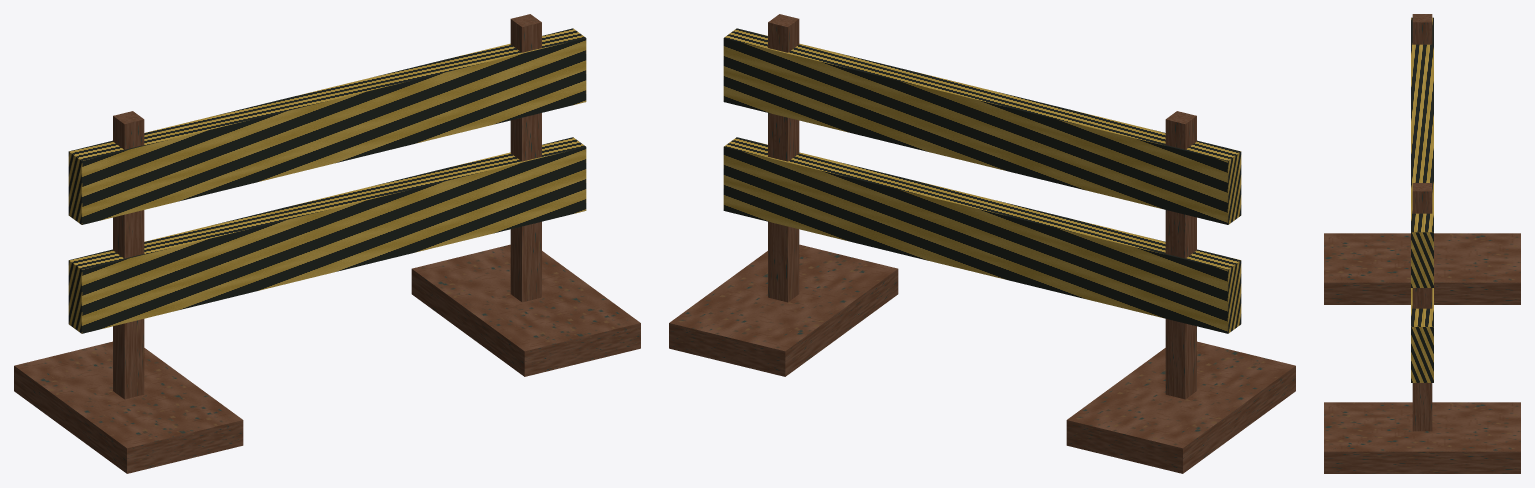
File: RoadBarrier.glb
The picture shows the model from 3 angles, left to right: view 1: azimuth 30°, elevation 25°; view 2: azimuth 150°, elevation 25°; view 3: azimuth 270°, elevation 25°; orthographic projection. The views are drawn at different scales.
Visible parts, largest first — view 1: RoadBarrier; view 2: RoadBarrier; view 3: RoadBarrier.
Part boxes in pixels (x1,y1,x2,y2): RoadBarrier: (14,14,640,473); RoadBarrier: (669,14,1295,473); RoadBarrier: (1324,14,1520,473).
Bounding box in the file's own units: 1.68 × 0.96 × 0.64.
2 materials, 2 textured.
